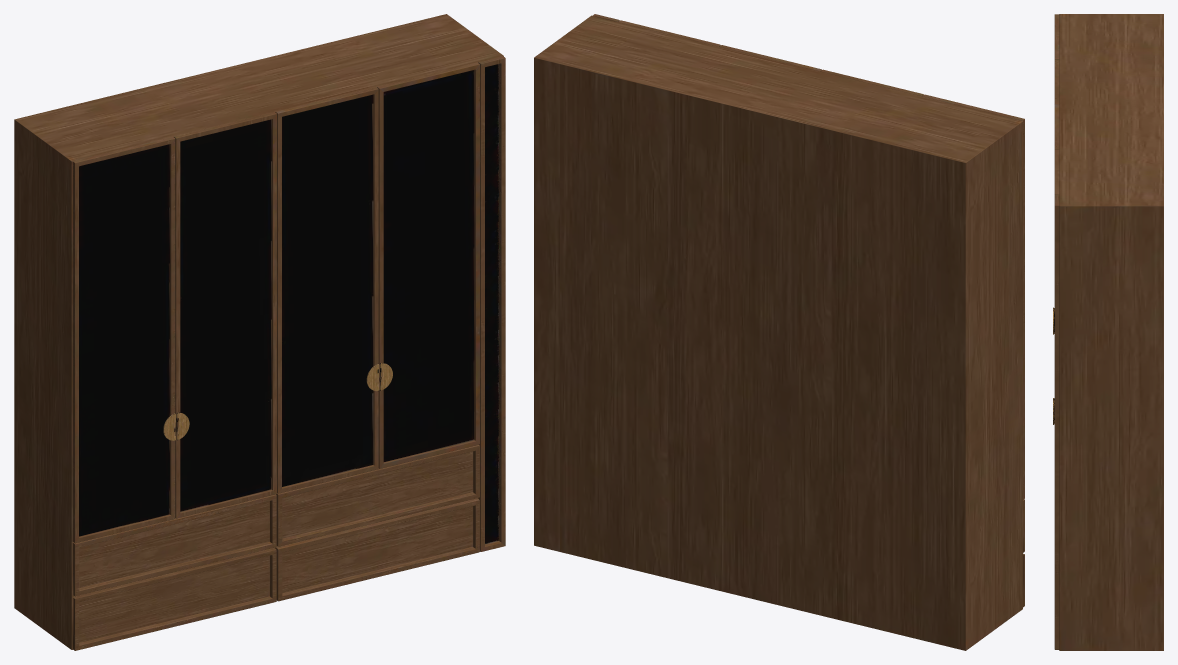
Rendered from wardrobeFluted.glb.
The picture shows the model from 3 angles, left to right: view 1: azimuth 30°, elevation 25°; view 2: azimuth 150°, elevation 25°; view 3: azimuth 270°, elevation 25°; orthographic projection. The views are drawn at different scales.
Visible parts, largest first — view 1: Wardrobe_Door, Wardrobe_Cabinet; view 2: Wardrobe_Cabinet, Wardrobe_Door; view 3: Wardrobe_Cabinet, Wardrobe_Door.
Part boxes in pixels (x1=…): Wardrobe_Door: x1=72, y1=56, x2=505, y2=650; Wardrobe_Cabinet: x1=14, y1=14, x2=503, y2=649; Wardrobe_Cabinet: x1=534, y1=15, x2=1022, y2=650; Wardrobe_Door: x1=592, y1=14, x2=1024, y2=607; Wardrobe_Cabinet: x1=1059, y1=14, x2=1163, y2=650; Wardrobe_Door: x1=1053, y1=14, x2=1059, y2=649.
Size of the model in its own units: 2.54 by 2.74 by 0.6198.
2 materials, 2 textured.
